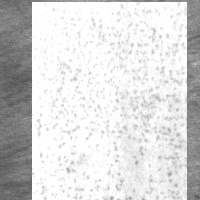pitted_surface: (32, 2, 187, 200)
rolled-in_scale: (79, 86, 142, 155), (84, 10, 144, 68)
